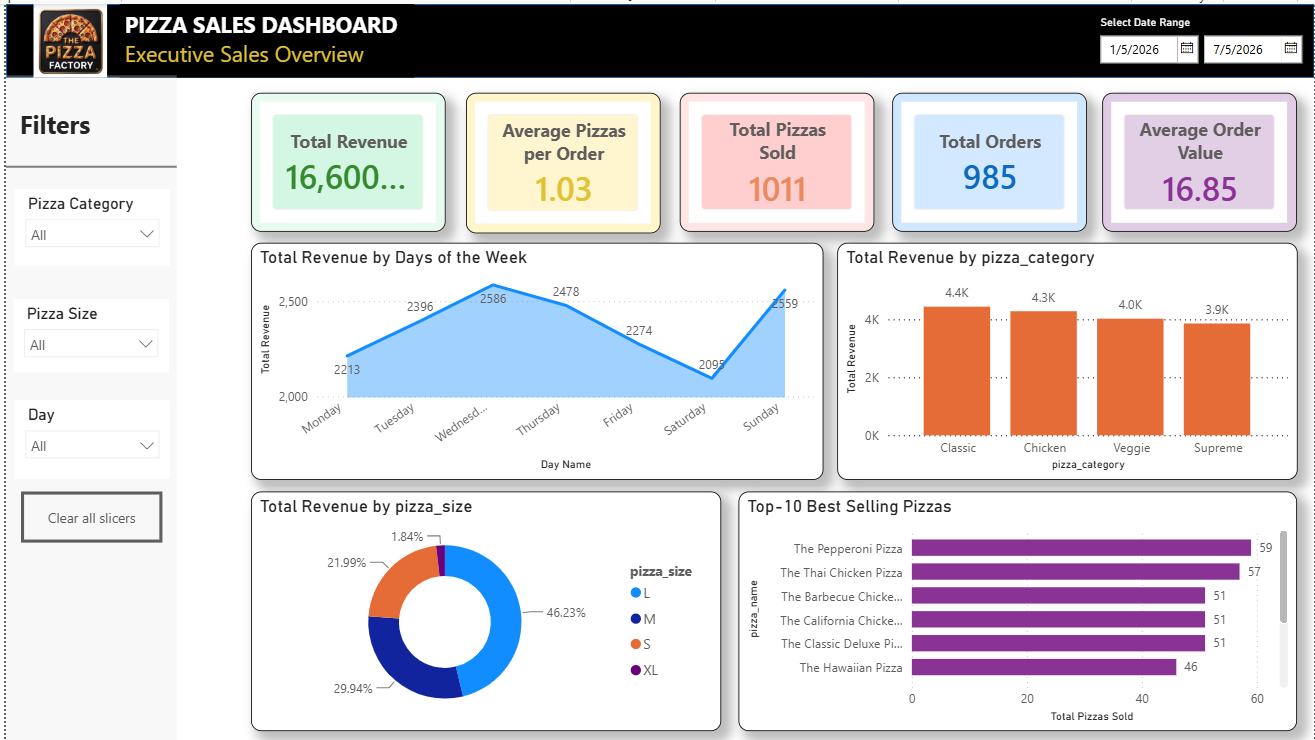

The dashboard page shown, as its layout file describes it:
{"tool":"powerbi","page":{"name":"Page 1","canvas":[1280,720],"ordinal":0},"visuals":[{"type":"shape","box":[0,0,1280,72.3],"z":0},{"type":"textbox","box":[111.3,0,288,72.3],"z":1000},{"type":"cardVisual","fields":{"Data":["Sheet1.Average Order Value"]},"box":[1072.7,86.3,190.6,136.3],"z":2000},{"type":"cardVisual","fields":{"Data":["Sheet1.Total Orders"]},"box":[866.8,86.3,190.6,136.3],"z":3000},{"type":"cardVisual","fields":{"Data":["Sheet1.Total Revenue"]},"box":[239.3,86.3,190.6,136.3],"z":4000},{"type":"cardVisual","fields":{"Data":["Sheet1.Average Pizzas per Order"]},"box":[449.4,86.3,190.6,137.7],"z":5000},{"type":"cardVisual","fields":{"Data":["Sheet1.Total Pizzas Sold"]},"box":[659.5,86.3,190.6,136.3],"z":6000},{"type":"areaChart","title":"Total Revenue by Days of the Week","fields":{"Category":["Sheet1.Day Name"],"Y":["Sheet1.Total Revenue"]},"box":[239.7,233.6,560.1,232.3],"z":7000},{"type":"clusteredColumnChart","fields":{"Category":["Sheet1.pizza_category"],"Y":["Sheet1.Total Revenue"]},"box":[813.2,233.6,450,232.3],"z":8000},{"type":"donutChart","fields":{"Category":["Sheet1.pizza_size"],"Y":["Sheet1.Total Revenue"]},"box":[239.7,476.9,459.8,234.8],"z":9000},{"type":"clusteredBarChart","title":"Top-10 Best Selling Pizzas","fields":{"Category":["Sheet1.pizza_name"],"Y":["Sheet1.Total Pizzas Sold"]},"box":[716.6,476.9,546.6,234.8],"z":10000},{"type":"shape","box":[0,69.6,167,651.1],"z":11000},{"type":"slicer","fields":{"Values":["Sheet1.pizza_category"]},"box":[8.3,180.9,151.7,75.1],"z":12000},{"type":"slicer","fields":{"Values":["Sheet1.Day Name"]},"box":[8.3,388.2,151.7,76.5],"z":14000},{"type":"slicer","title":"Pizza Size ","fields":{"Values":["Sheet1.pizza_size"]},"box":[7,288,151.7,72.3],"z":15000},{"type":"shape","box":[0,136.3,167,44.5],"z":16000},{"type":"textbox","box":[8.3,96,151.7,52.9],"z":17000},{"type":"slicer","fields":{"Values":["Sheet1.order_date"]},"box":[1057.4,4.2,222.6,72.3],"z":18000},{"type":"image","box":[26.4,0,72.3,72.3],"z":19000},{"type":"actionButton","box":[15,476.7,138.3,50],"z":19001}]}

Visuals, with their boxes in screenshot pixels (x1, y1, x2, y2), scaled from the page's 1280x720 canvas onto the 1315x740 screenshot:
shape: (0, 0, 1314, 74)
textbox: (114, 0, 410, 74)
cardVisual - Sheet1.Average Order Value: (1102, 89, 1298, 229)
cardVisual - Sheet1.Total Orders: (891, 89, 1086, 229)
cardVisual - Sheet1.Total Revenue: (246, 89, 442, 229)
cardVisual - Sheet1.Average Pizzas per Order: (462, 89, 658, 230)
cardVisual - Sheet1.Total Pizzas Sold: (678, 89, 873, 229)
"Total Revenue by Days of the Week" areaChart: (246, 240, 822, 479)
clusteredColumnChart - Sheet1.pizza_category x Sheet1.Total Revenue: (835, 240, 1298, 479)
donutChart - Sheet1.pizza_size x Sheet1.Total Revenue: (246, 490, 719, 731)
"Top-10 Best Selling Pizzas" clusteredBarChart: (736, 490, 1298, 731)
shape: (0, 72, 172, 739)
slicer - Sheet1.pizza_category: (9, 186, 164, 263)
slicer - Sheet1.Day Name: (9, 399, 164, 478)
"Pizza Size " slicer: (7, 296, 163, 370)
shape: (0, 140, 172, 186)
textbox: (9, 99, 164, 153)
slicer - Sheet1.order_date: (1086, 4, 1314, 79)
image: (27, 0, 101, 74)
actionButton: (15, 490, 157, 541)
